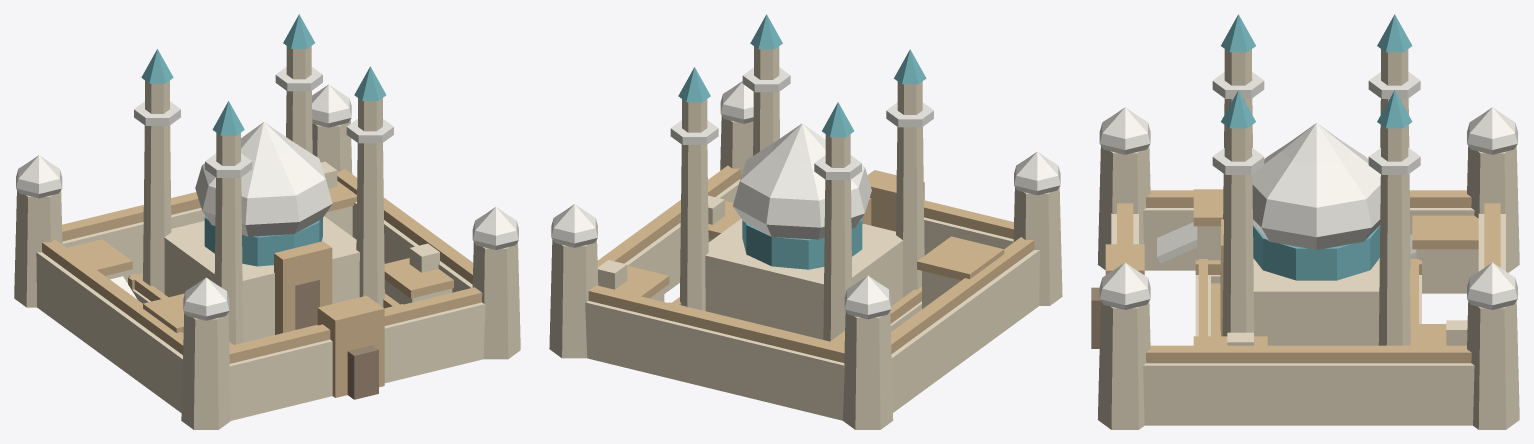
Rendered from capital.glb.
3 renders of one model, left to right at view 1: azimuth 30°, elevation 25°; view 2: azimuth 150°, elevation 25°; view 3: azimuth 270°, elevation 25°, orthographic. The views are drawn at different scales.
Parts seen in each view (by area): view 1: desert_capital; view 2: desert_capital; view 3: desert_capital.
Part boxes in pixels (bbox=[...]): desert_capital: bbox=[14, 14, 520, 429]; desert_capital: bbox=[549, 14, 1062, 429]; desert_capital: bbox=[1091, 14, 1519, 429].
Size of the model in its own units: 0.9936 by 0.7475 by 1.
